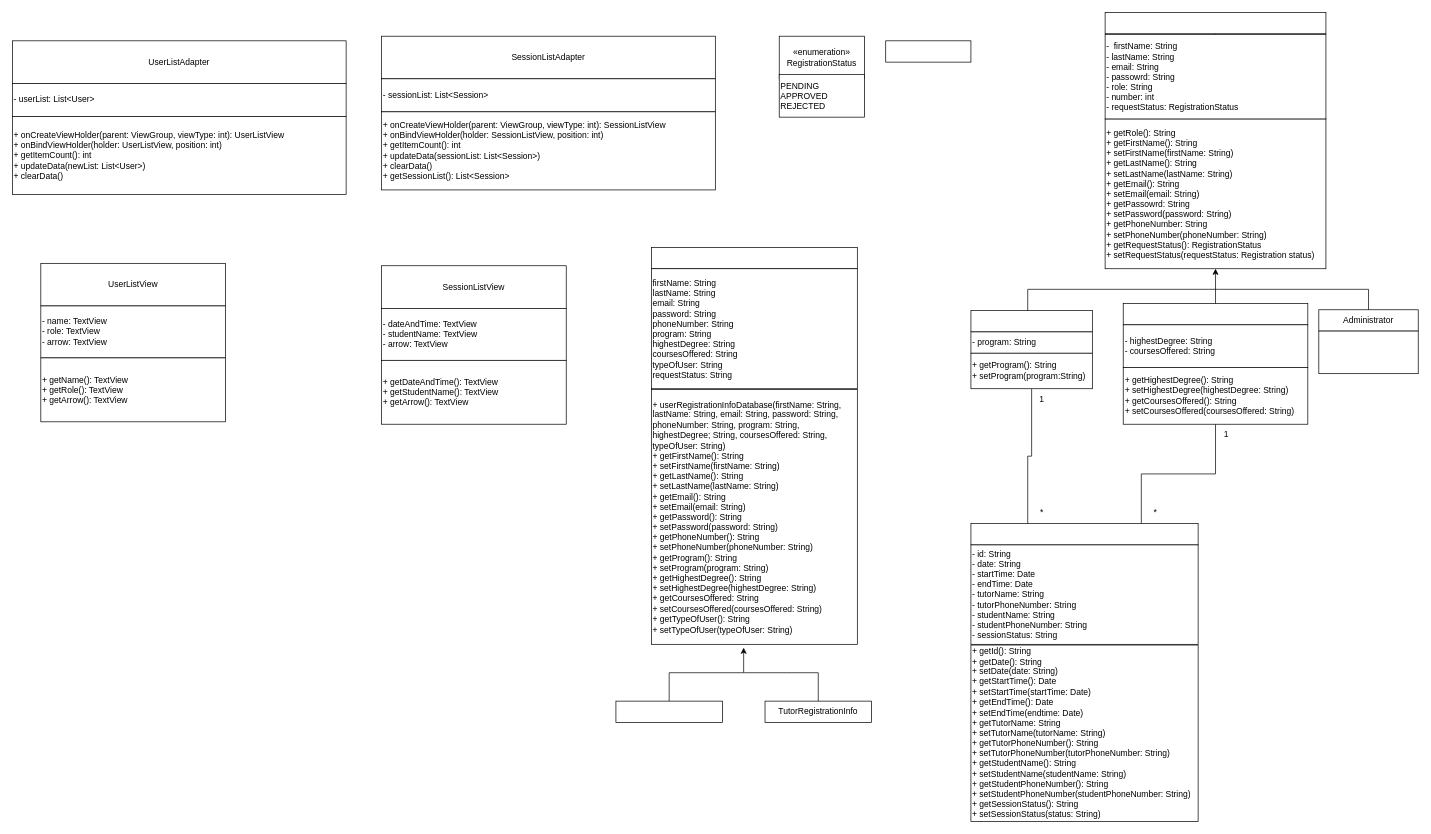
Some shapes in this 1431 by 834 pixel diagram are drawn without their labels. The centre of each missing label's shape, as x and y in pixels:
"Access Database" goes at pixel 928 51.
"Session" goes at pixel 1084 534.
"Student" goes at pixel 1031 321.
"StudentRegistrationInfo" goes at pixel 668 711.
"Tutor" goes at pixel 1215 314.
"User" goes at pixel 1215 23.
"UserRegistrationInfoDatabase" goes at pixel 754 258.
